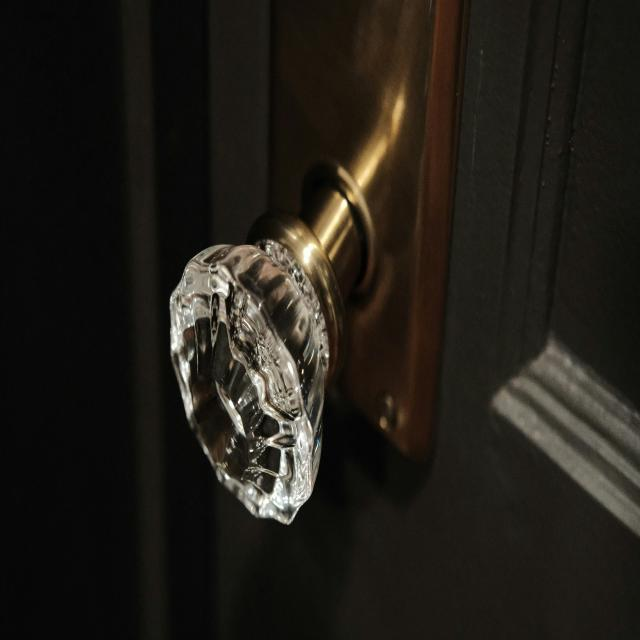door-knob: (170, 162, 374, 522)
